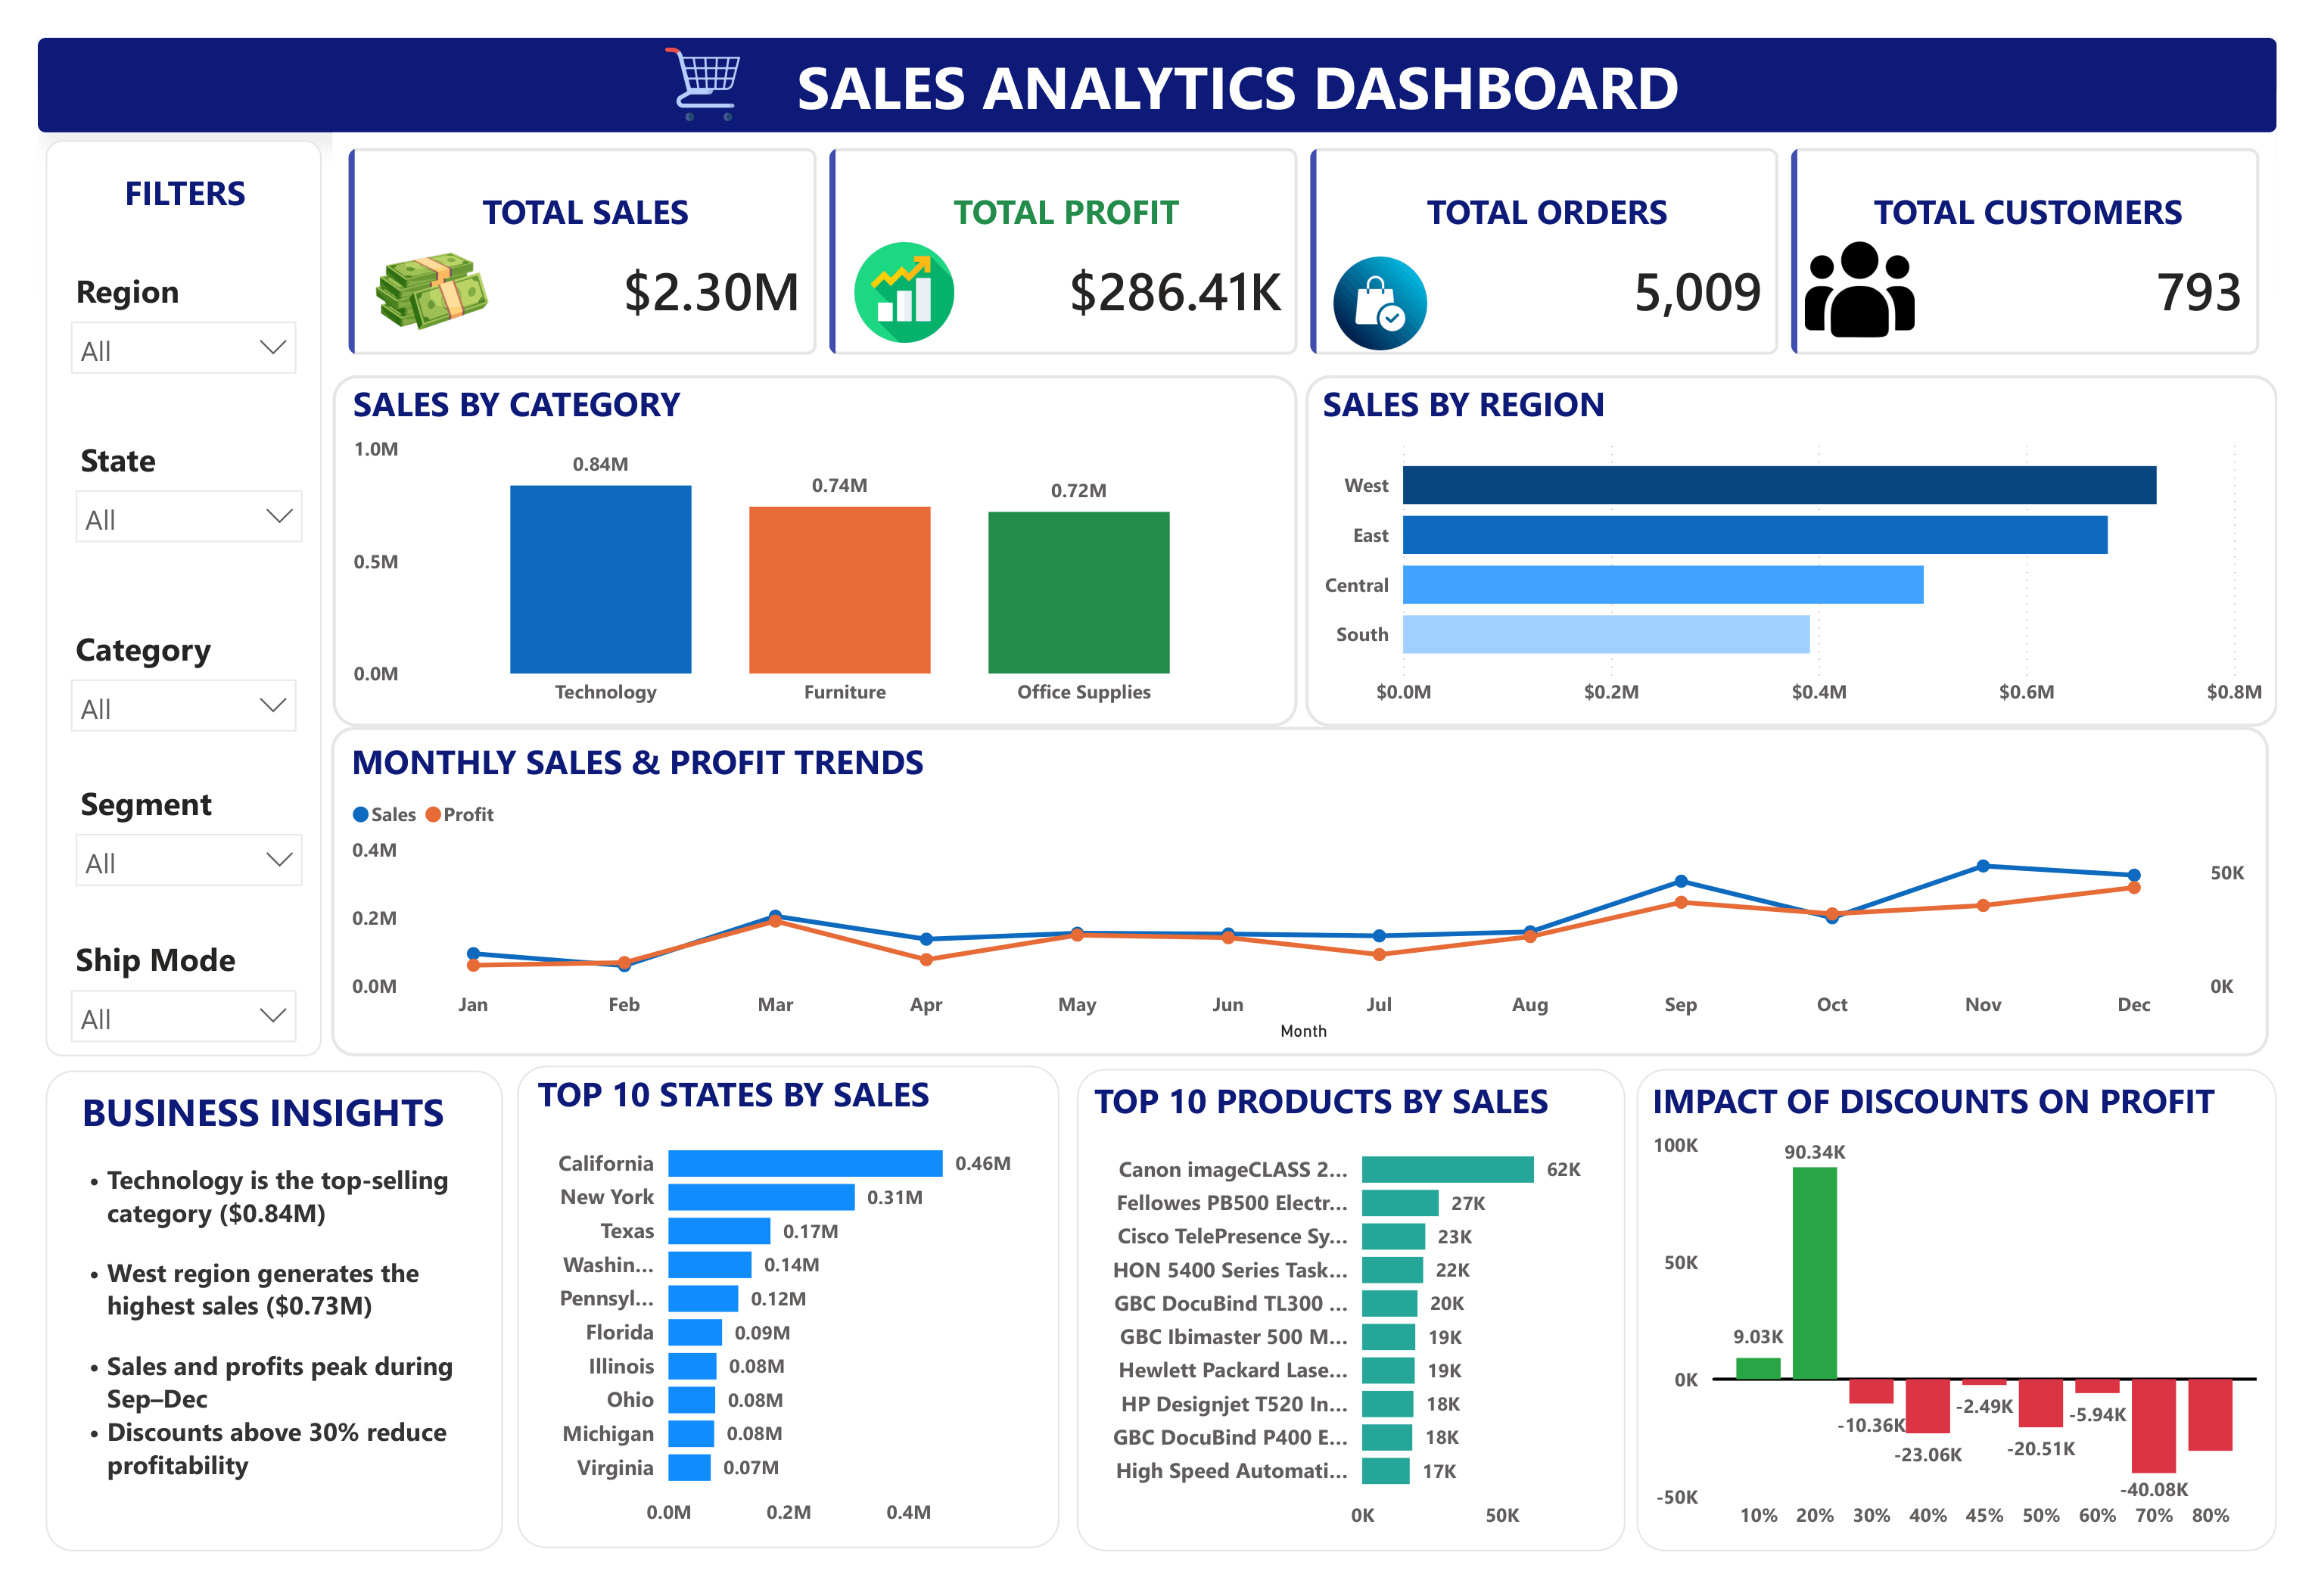

What the dashboard file says about the page in this screenshot:
{"tool":"powerbi","page":{"name":"Page 1","canvas":[1420,964],"ordinal":0},"visuals":[{"type":"shape","box":[0,0,1420.1,60.3],"z":0},{"type":"textbox","box":[447.7,0,627.1,60.3],"z":1000},{"type":"image","box":[395,6,52.8,46.7],"z":2000},{"type":"group","id":"g1","title":"Group 1","box":[186.9,60.3,1233.2,150.8],"z":3000},{"type":"shape","box":[803.5,214.1,616.6,223.1],"z":3000,"group":"g7"},{"type":"cardVisual","fields":{"Data":["sales_analytics superstore_staging.TOTAL SALES","sales_analytics superstore_staging.TOTAL PROFIT","sales_analytics superstore_staging.Orders Display","sales_analytics superstore_staging.TOTAL CUSTOMERS"]},"box":[186.9,60.3,1232.6,151.2],"z":4000,"group":"g1"},{"type":"shape","box":[186.9,214.1,612.1,223.1],"z":4000,"group":"g6"},{"type":"group","id":"g2","title":"Group 2","box":[1014.3,654,405.7,305.8],"z":4000},{"type":"image","box":[505.9,130.3,86.4,63.3],"z":5000,"group":"g1"},{"type":"group","id":"g3","title":"Group 3","box":[658.5,654,348.2,305.8],"z":5000},{"type":"image","box":[814.7,137.1,72,63.3],"z":6000,"group":"g1"},{"type":"clusteredColumnChart","title":"SALES BY CATEGORY","fields":{"Y":["Sum(sales_analytics superstore_staging.Sales)"],"Category":["sales_analytics superstore_staging.Category"]},"box":[194.4,217.1,595.5,215.6],"z":6000,"group":"g6"},{"type":"group","id":"g4","title":"Group 4","box":[304.3,652.5,343.6,305.8],"z":6000},{"type":"image","box":[1113,125.5,85.1,68.5],"z":7000,"group":"g1"},{"type":"clusteredBarChart","title":"SALES BY REGION","fields":{"Category":["sales_analytics superstore_staging.Region"],"Y":["Sum(sales_analytics superstore_staging.Sales)"]},"box":[809.5,217.1,606,215.6],"z":7000,"group":"g7"},{"type":"group","id":"g5","title":"Group 5","box":[186.2,437.5,1229.2,208.9],"z":7000},{"type":"image","box":[202.3,119.1,95.5,84],"z":8000,"group":"g1"},{"type":"group","id":"g6","title":"Group 6","box":[186.9,214.1,612.1,223.1],"z":8000},{"type":"shape","box":[186.2,437.5,1229.2,208.9],"z":8000,"group":"g5"},{"type":"group","id":"g7","title":"Group 7","box":[803.5,214.1,616.6,223.1],"z":9000},{"type":"lineChart","title":"MONTHLY SALES & PROFIT TRENDS","fields":{"Category":["sales_analytics superstore_staging.Month"],"Y":["sales_analytics superstore_staging.SALES VALUE"],"Y2":["sales_analytics superstore_staging.PROFIT VALUE"]},"box":[193.7,444.4,1211.1,196.8],"z":9000,"group":"g5"},{"type":"shape","box":[4.5,65.1,175.6,581.3],"z":10000},{"type":"shape","box":[304.3,652.5,343.6,305.8],"z":10000,"group":"g4"},{"type":"shape","box":[658.5,654,348.2,305.8],"z":11000,"group":"g3"},{"type":"shape","box":[4.5,655.5,290.7,304.3],"z":11000},{"type":"textbox","box":[14.4,78.4,158.5,51.2],"z":12000},{"type":"shape","box":[1014.3,654,405.7,305.8],"z":12000,"group":"g2"},{"type":"slicer","fields":{"Values":["sales_analytics superstore_staging.Region"]},"box":[11.2,140.8,163.3,76.8],"z":13000},{"type":"clusteredBarChart","title":"TOP 10 STATES BY SALES","fields":{"Category":["sales_analytics superstore_staging.State"],"Y":["Sum(sales_analytics superstore_staging.Sales)"]},"box":[312,655.5,325.9,298.2],"z":13000,"group":"g4"},{"type":"clusteredBarChart","title":"TOP 10 PRODUCTS BY SALES","fields":{"Y":["Sum(sales_analytics superstore_staging.Sales)"],"Category":["sales_analytics superstore_staging.Product_Name"]},"box":[665,658.5,330,296.7],"z":13002,"group":"g3"},{"type":"clusteredColumnChart","title":"IMPACT OF DISCOUNTS ON PROFIT","fields":{"Y":["Sum(sales_analytics superstore_staging.Profit)"],"Category":["sales_analytics superstore_staging.Discount Label"]},"box":[1018.8,658.5,393,296.7],"z":13003,"group":"g2"},{"type":"slicer","fields":{"Values":["sales_analytics superstore_staging.State"]},"box":[14.4,248.1,163.3,76.8],"z":14000},{"type":"slicer","fields":{"Values":["sales_analytics superstore_staging.Category"]},"box":[11.2,368.1,163.3,76.8],"z":15000},{"type":"slicer","fields":{"Values":["sales_analytics superstore_staging.Segment"]},"box":[14.4,465.8,163.3,76.8],"z":16000},{"type":"slicer","fields":{"Values":["sales_analytics superstore_staging.Ship_Mode"]},"box":[11.2,565,163.3,76.8],"z":17000},{"type":"textbox","box":[22.7,658.5,254.3,50],"z":18000},{"type":"textbox","box":[15.1,708.5,272.5,245.2],"z":19000}]}

Visuals, with their boxes on the page's 1420x964 design canvas (x1, y1, x2, y2). These are canvas units, not pixel positions in the 2315x1596 screenshot, which may show the page scaled, cropped or inside an application window:
shape: detection(0, 0, 1420, 60)
textbox: detection(448, 0, 1075, 60)
image: detection(395, 6, 448, 53)
"Group 1" group: detection(187, 60, 1420, 211)
shape: detection(804, 214, 1420, 437)
cardVisual - sales_analytics superstore_staging.TOTAL SALES x sales_analytics superstore_staging.TOTAL PROFIT: detection(187, 60, 1420, 212)
shape: detection(187, 214, 799, 437)
"Group 2" group: detection(1014, 654, 1420, 960)
image: detection(506, 130, 592, 194)
"Group 3" group: detection(658, 654, 1007, 960)
image: detection(815, 137, 887, 200)
"SALES BY CATEGORY" clusteredColumnChart: detection(194, 217, 790, 433)
"Group 4" group: detection(304, 652, 648, 958)
image: detection(1113, 126, 1198, 194)
"SALES BY REGION" clusteredBarChart: detection(810, 217, 1416, 433)
"Group 5" group: detection(186, 438, 1415, 646)
image: detection(202, 119, 298, 203)
"Group 6" group: detection(187, 214, 799, 437)
shape: detection(186, 438, 1415, 646)
"Group 7" group: detection(804, 214, 1420, 437)
"MONTHLY SALES & PROFIT TRENDS" lineChart: detection(194, 444, 1405, 641)
shape: detection(4, 65, 180, 646)
shape: detection(304, 652, 648, 958)
shape: detection(658, 654, 1007, 960)
shape: detection(4, 656, 295, 960)
textbox: detection(14, 78, 173, 130)
shape: detection(1014, 654, 1420, 960)
slicer - sales_analytics superstore_staging.Region: detection(11, 141, 174, 218)
"TOP 10 STATES BY SALES" clusteredBarChart: detection(312, 656, 638, 954)
"TOP 10 PRODUCTS BY SALES" clusteredBarChart: detection(665, 658, 995, 955)
"IMPACT OF DISCOUNTS ON PROFIT" clusteredColumnChart: detection(1019, 658, 1412, 955)
slicer - sales_analytics superstore_staging.State: detection(14, 248, 178, 325)
slicer - sales_analytics superstore_staging.Category: detection(11, 368, 174, 445)
slicer - sales_analytics superstore_staging.Segment: detection(14, 466, 178, 543)
slicer - sales_analytics superstore_staging.Ship_Mode: detection(11, 565, 174, 642)
textbox: detection(23, 658, 277, 708)
textbox: detection(15, 708, 288, 954)
